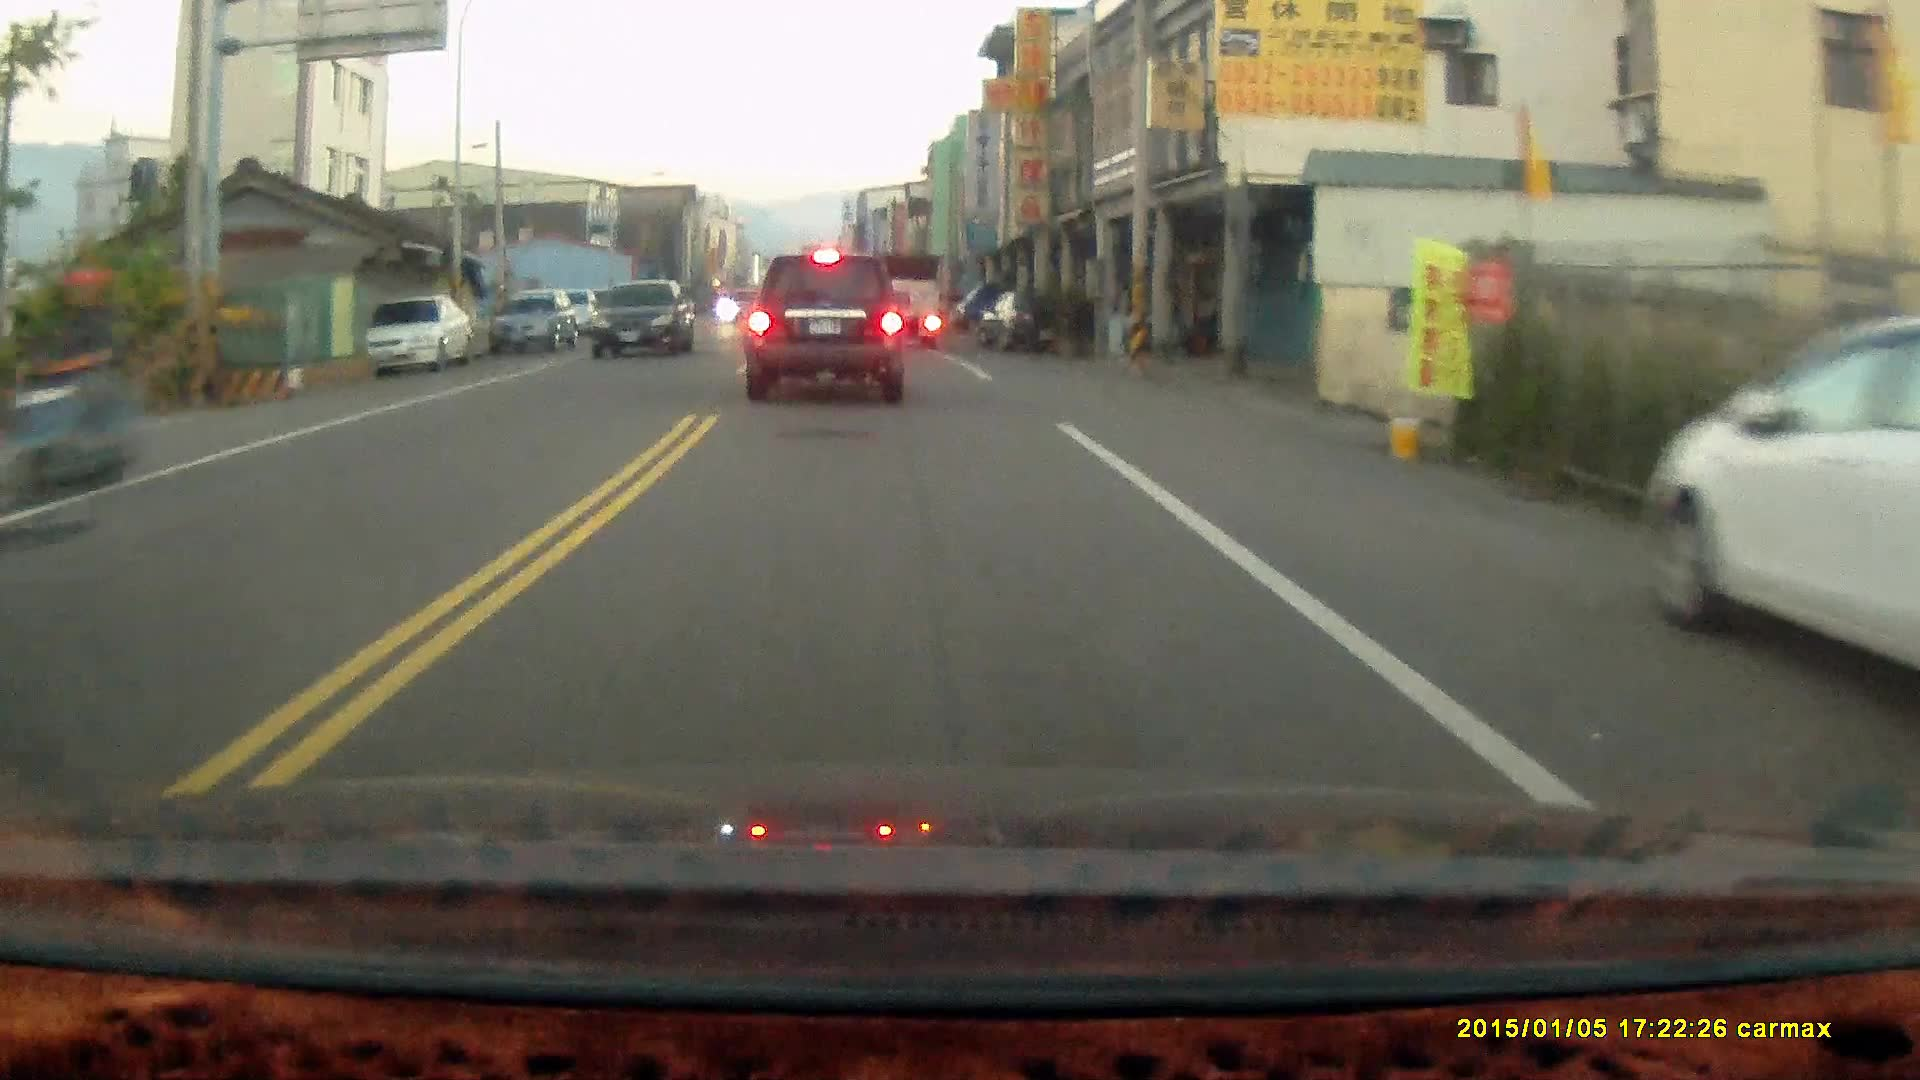rider: (0, 267, 132, 500)
vehicle: (1641, 316, 1920, 704), (745, 256, 909, 412), (361, 298, 474, 374), (595, 281, 695, 361), (864, 254, 944, 354), (491, 290, 580, 359)
